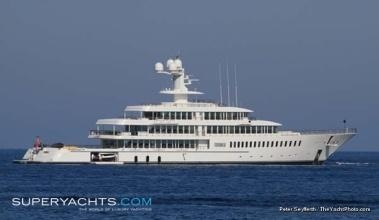yacht: (14, 54, 368, 168)
